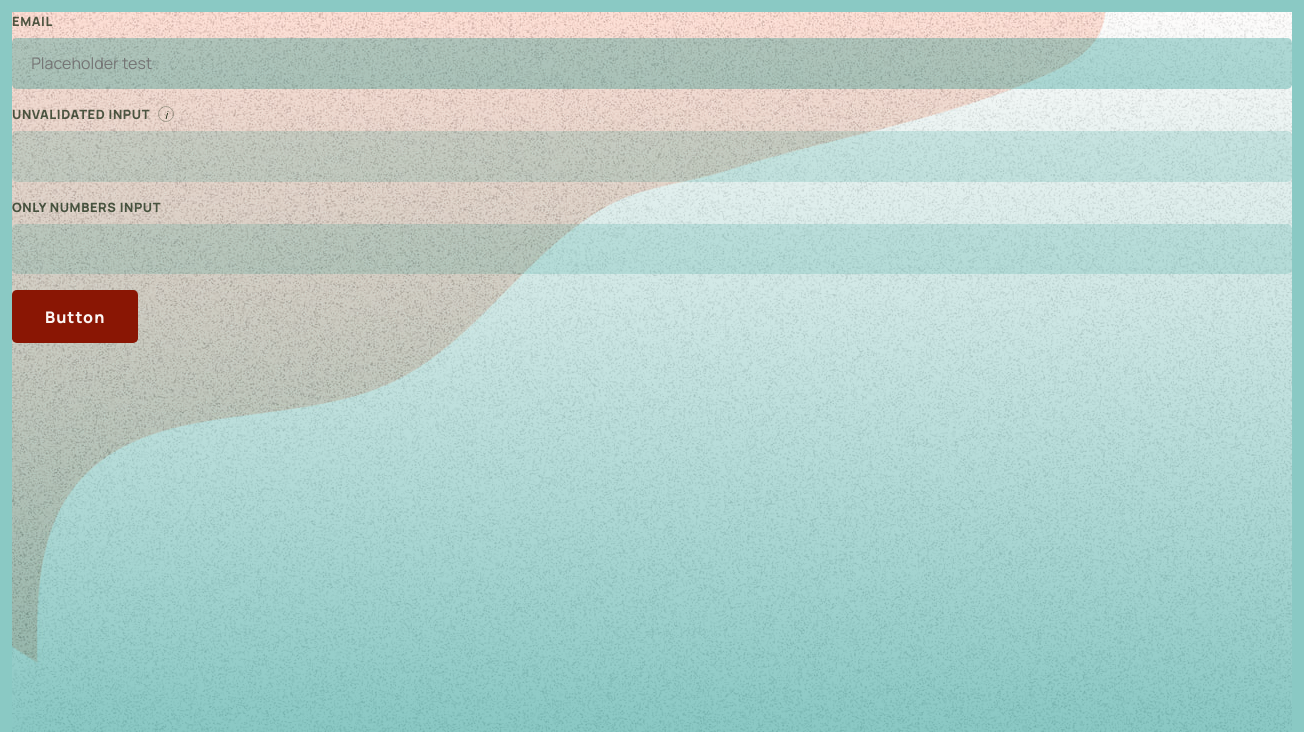
Given a Form component › When instantiated with a form schema and a button 'Submit' › And filled the inputs with invalid data › Then it should display a list of errors
The width and height of the screenshot is (1304, 732).
Step 1. Type "." into the field labelled "Email" → (652, 63), box [12,38,1292,89]
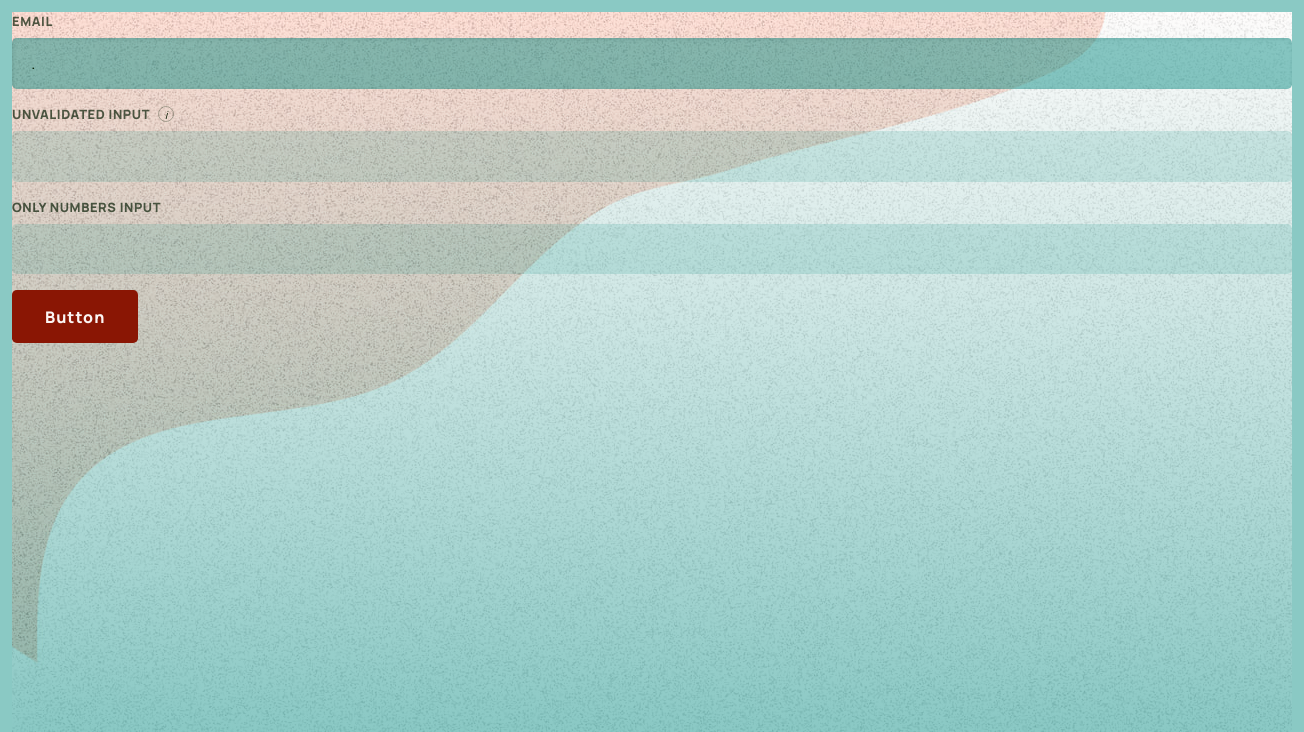
Step 2. Click the button "Button" → (75, 317), box [12,290,138,343]
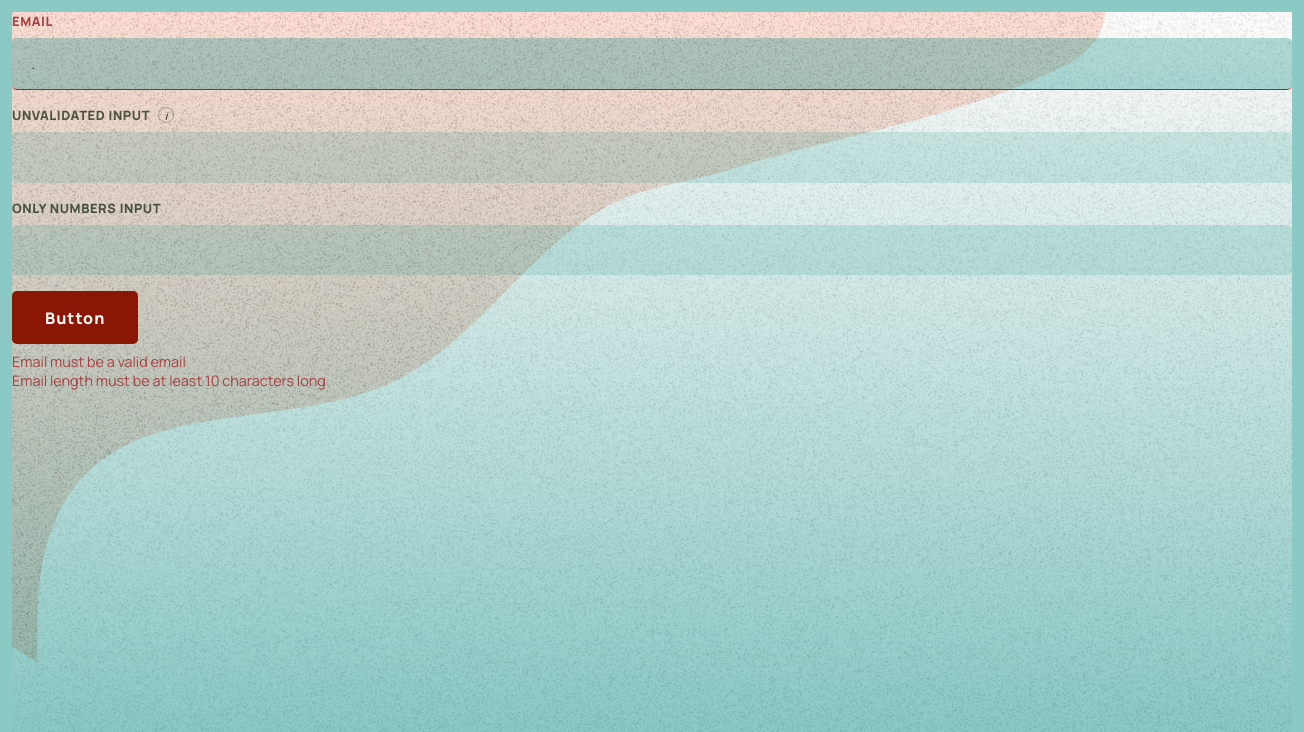
Expected: the list with test id "errors" is shown, [12,352,326,390]
